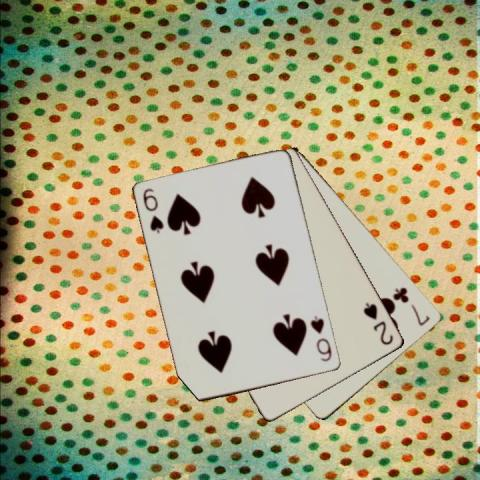2s: (361, 299, 395, 347)
6s: (308, 313, 333, 363), (140, 186, 165, 236)
7c: (391, 284, 432, 327)
